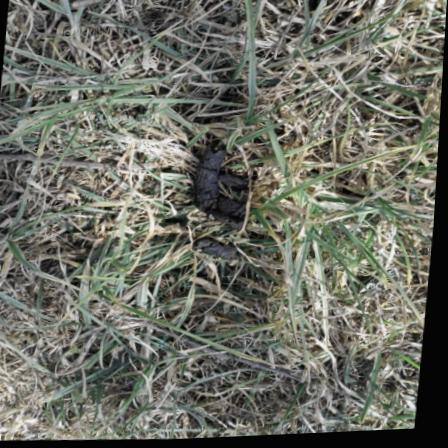dog-poop: (178, 135, 260, 240), (188, 233, 240, 271)
